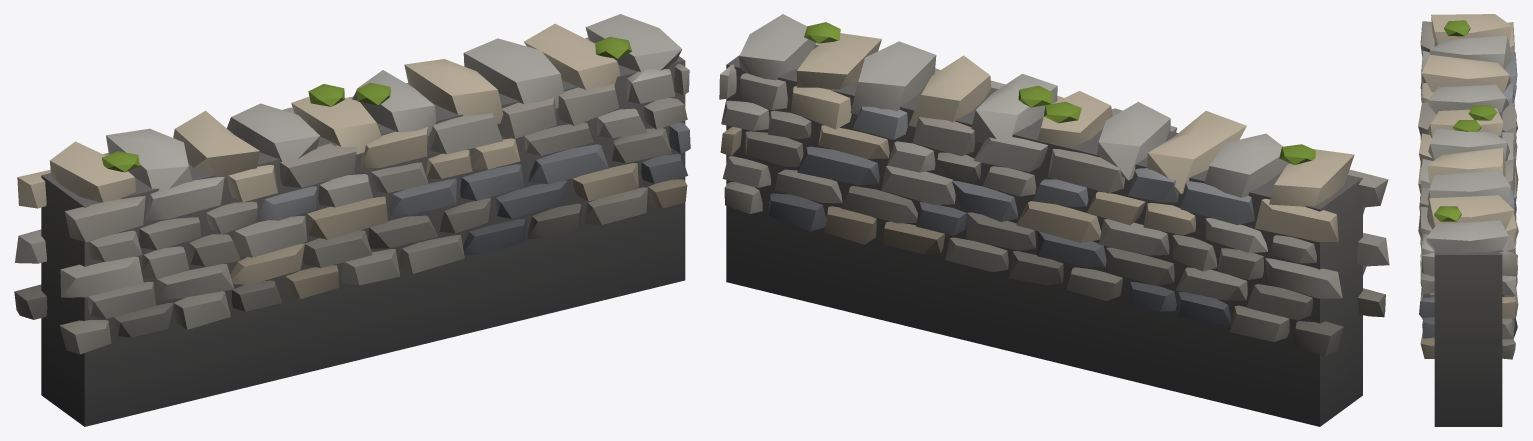
The model's file is Stone_Wall.fbx.
3 renders of one model, left to right at view 1: azimuth 30°, elevation 25°; view 2: azimuth 150°, elevation 25°; view 3: azimuth 270°, elevation 25°, orthographic. The views are drawn at different scales.
Parts seen in each view (by area): view 1: Stone_Wall_LOD0; view 2: Stone_Wall_LOD0; view 3: Stone_Wall_LOD0.
Part boxes in pixels (x1=…): Stone_Wall_LOD0: x1=14, y1=14, x2=690, y2=426; Stone_Wall_LOD0: x1=719, y1=14, x2=1389, y2=426; Stone_Wall_LOD0: x1=1418, y1=14, x2=1518, y2=426.
Size of what is drawn, in the model's own units: 4.17 by 1.59 by 0.7442.
Materials: 1 (1 with a texture image).
